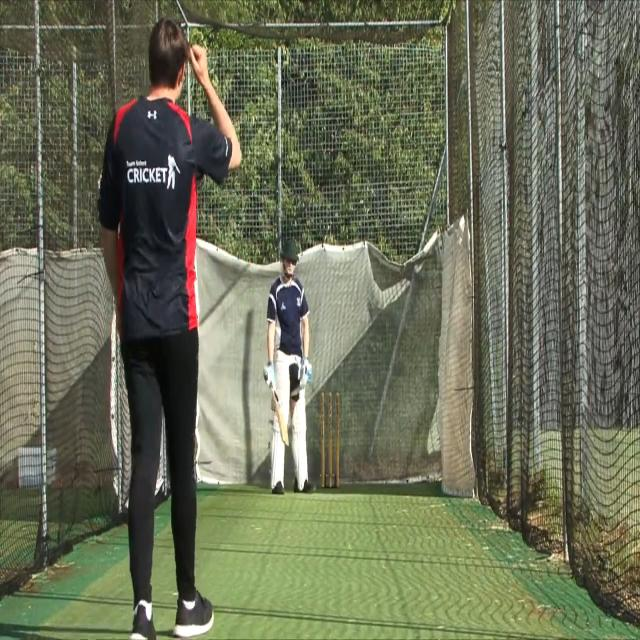batsman: (261, 237, 318, 497)
